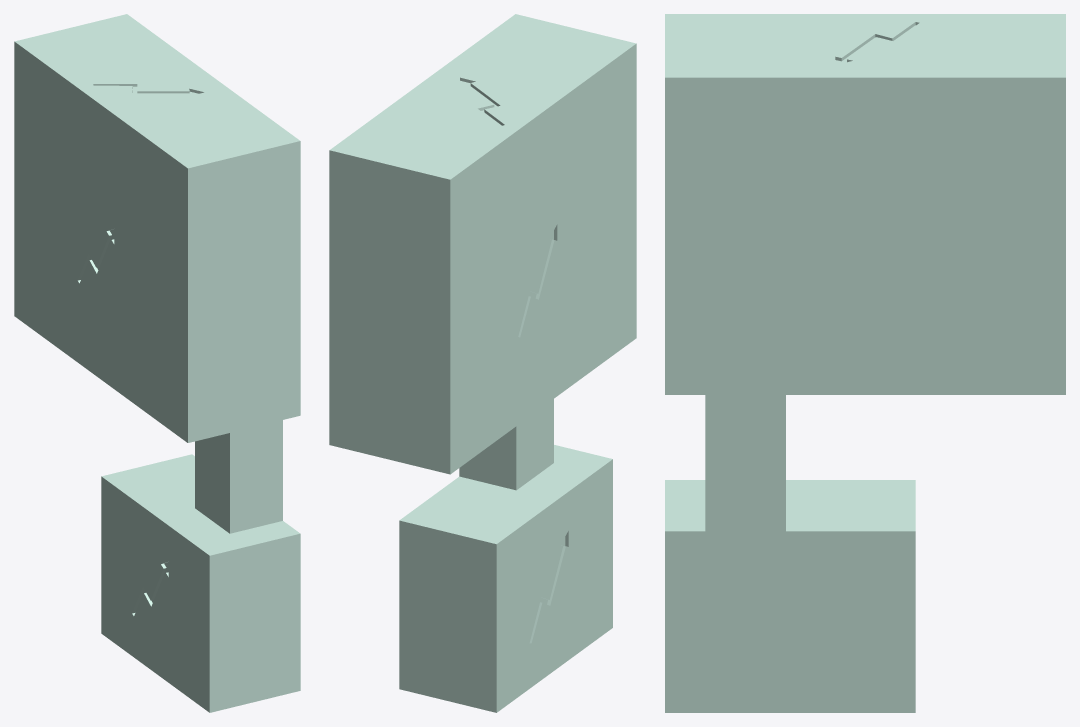
3 renders of one model, left to right at view 1: azimuth 30°, elevation 25°; view 2: azimuth 150°, elevation 25°; view 3: azimuth 270°, elevation 25°, orthographic. The views are drawn at different scales.
Visible parts, largest first — view 1: Renderer Node; view 2: Renderer Node; view 3: Renderer Node.
Boxes of the visible parts, x1,y1,x2,y2 form: Renderer Node: (14,14,300,712); Renderer Node: (329,14,636,712); Renderer Node: (665,14,1065,712).
Size of the model in its own units: 0.2813 by 1.31 by 0.75.
